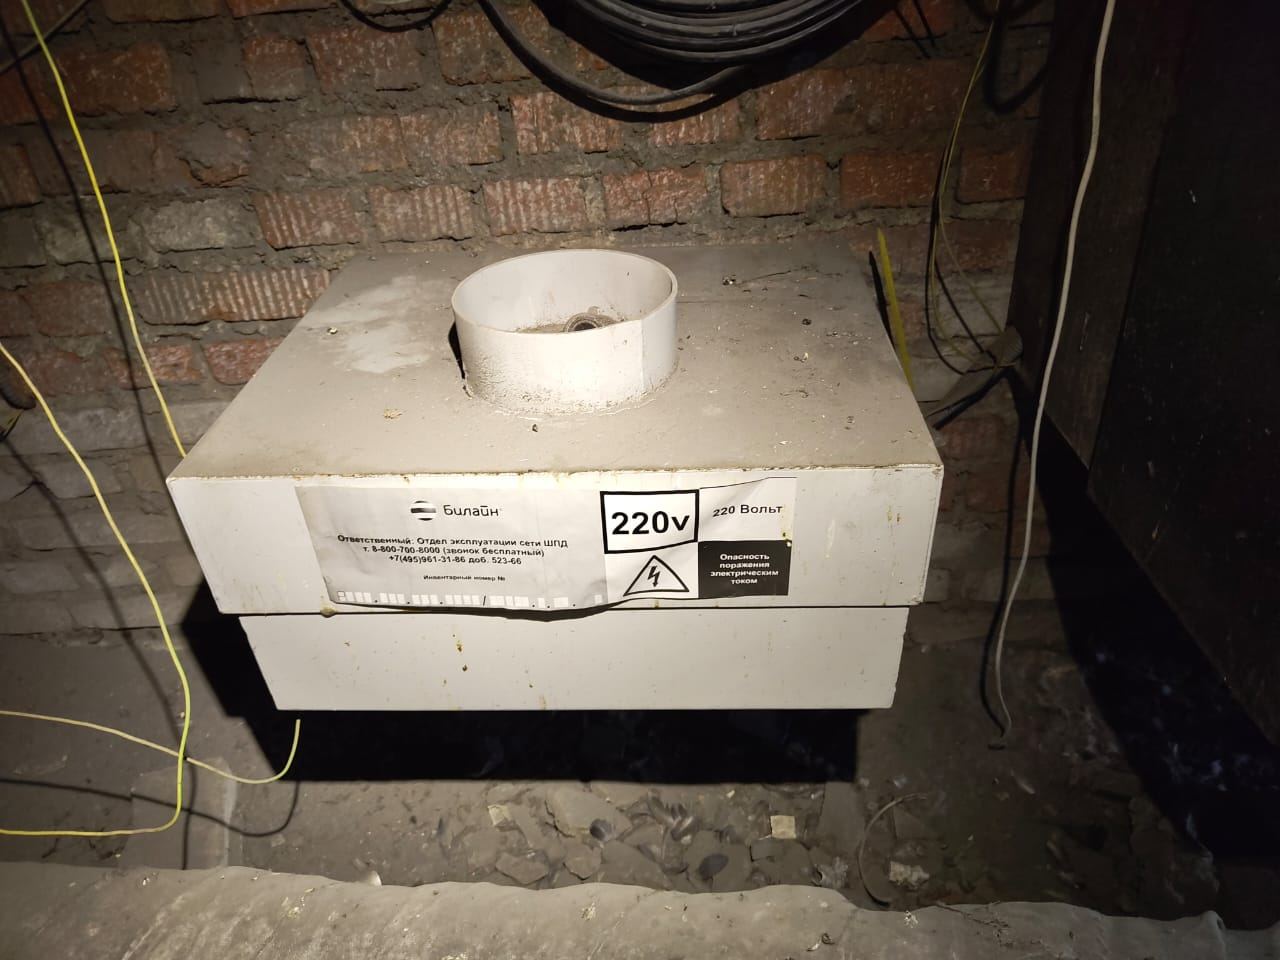shta-ps: (157, 232, 954, 715)
